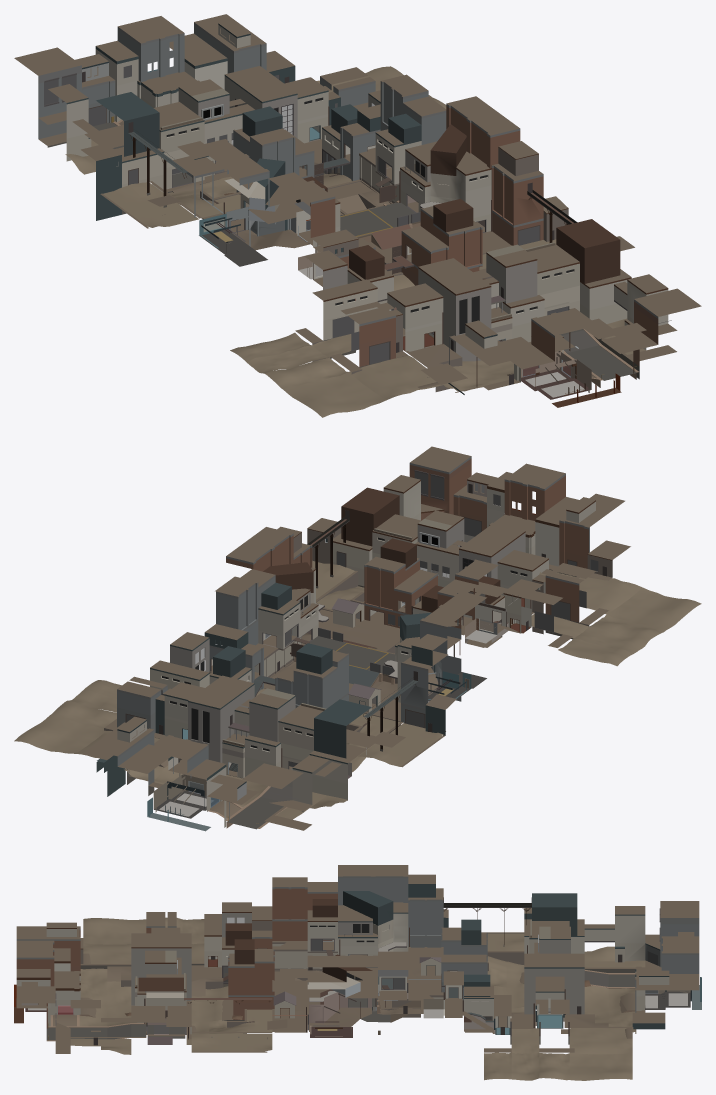
Rendered from world.glb.
The picture shows the model from 3 angles, top to bottom: view 1: azimuth 30°, elevation 25°; view 2: azimuth 150°, elevation 25°; view 3: azimuth 270°, elevation 25°; orthographic projection. The views are drawn at different scales.
Visible parts, largest first — view 1: chunk_2_0_mesh, chunk_2_2_mesh, chunk_1_0_mesh, chunk_1_3_mesh, chunk_1_2_mesh, chunk_2_3_mesh, chunk_2_1_mesh, chunk_1_1_mesh, chunk_0_0_mesh, chunk_3_1_mesh, chunk_0_2_mesh, chunk_0_3_mesh (+3 smaller); view 2: chunk_1_3_mesh, chunk_2_3_mesh, chunk_2_2_mesh, chunk_2_0_mesh, chunk_1_0_mesh, chunk_2_1_mesh, chunk_1_2_mesh, chunk_0_2_mesh, chunk_1_1_mesh, chunk_0_3_mesh, chunk_0_0_mesh, chunk_3_1_mesh (+4 smaller); view 3: chunk_1_1_mesh, chunk_1_2_mesh, chunk_2_1_mesh, chunk_2_3_mesh, chunk_2_2_mesh, chunk_2_0_mesh, chunk_1_3_mesh, chunk_1_0_mesh, chunk_0_3_mesh, chunk_3_3_mesh, chunk_3_1_mesh, chunk_3_0_mesh (+4 smaller).
Part boxes in pixels (bbox=[...]): chunk_2_0_mesh: bbox=[473, 228, 658, 403]; chunk_2_2_mesh: bbox=[261, 74, 449, 226]; chunk_1_0_mesh: bbox=[377, 258, 572, 407]; chunk_1_3_mesh: bbox=[38, 20, 246, 187]; chunk_1_2_mesh: bbox=[137, 106, 360, 253]; chunk_2_3_mesh: bbox=[145, 14, 340, 143]; chunk_2_1_mesh: bbox=[361, 119, 512, 279]; chunk_1_1_mesh: bbox=[259, 169, 438, 354]; chunk_0_0_mesh: bbox=[264, 301, 446, 417]; chunk_3_1_mesh: bbox=[448, 96, 577, 249]; chunk_0_2_mesh: bbox=[96, 131, 256, 259]; chunk_0_3_mesh: bbox=[14, 47, 162, 174]; chunk_1_3_mesh: bbox=[161, 688, 328, 831]; chunk_2_3_mesh: bbox=[82, 675, 254, 820]; chunk_2_2_mesh: bbox=[179, 561, 359, 708]; chunk_2_0_mesh: bbox=[341, 456, 550, 587]; chunk_1_0_mesh: bbox=[457, 469, 630, 634]; chunk_2_1_mesh: bbox=[263, 531, 429, 653]; chunk_1_2_mesh: bbox=[283, 604, 452, 772]; chunk_0_2_mesh: bbox=[354, 604, 478, 767]; chunk_1_1_mesh: bbox=[360, 548, 534, 701]; chunk_0_3_mesh: bbox=[242, 699, 405, 830]; chunk_0_0_mesh: bbox=[545, 563, 701, 640]; chunk_3_1_mesh: bbox=[226, 516, 372, 602]; chunk_1_1_mesh: bbox=[181, 876, 372, 1003]; chunk_1_2_mesh: bbox=[343, 876, 529, 1008]; chunk_2_1_mesh: bbox=[185, 939, 372, 1044]; chunk_2_3_mesh: bbox=[524, 947, 701, 1038]; chunk_2_2_mesh: bbox=[346, 947, 535, 1036]; chunk_2_0_mesh: bbox=[14, 947, 186, 1046]; chunk_1_3_mesh: bbox=[524, 907, 701, 1012]; chunk_1_0_mesh: bbox=[14, 922, 191, 1005]; chunk_0_3_mesh: bbox=[524, 893, 699, 967]; chunk_3_3_mesh: bbox=[539, 999, 632, 1080]; chunk_3_1_mesh: bbox=[184, 955, 377, 1052]; chunk_3_0_mesh: bbox=[16, 977, 191, 1054].
Size of what is drawn, in the model's own units: 4832 by 1360 by 8736.
